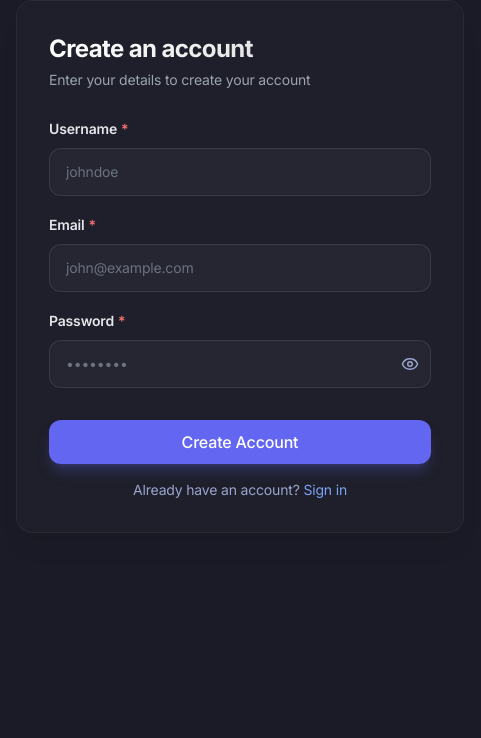
Test case: AuthForm › Password Requirements Visibility › shows password strength meter when typing in registration mode
The image size is (481, 738).
Type a password
Step 1. Type "Test123!@#" into the password field labelled "Password*" → [240, 364], box [49, 340, 431, 388]
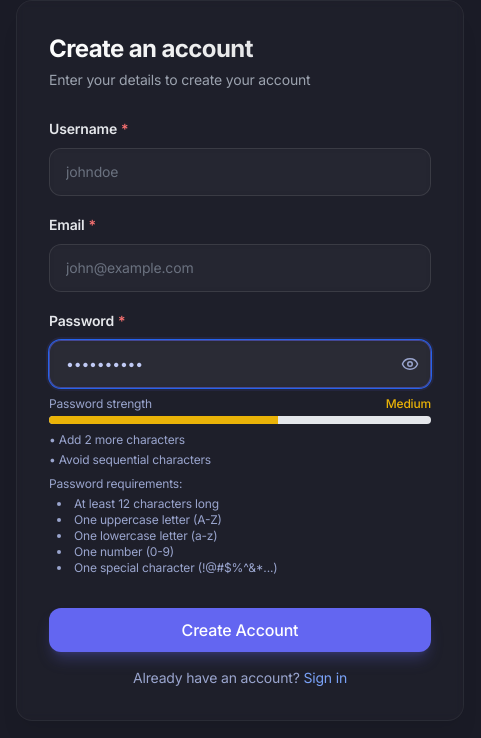
Expected: the text "Password strength" is shown, [49, 396, 152, 412]
Expected: the progress indicator is shown, [49, 416, 278, 424]
